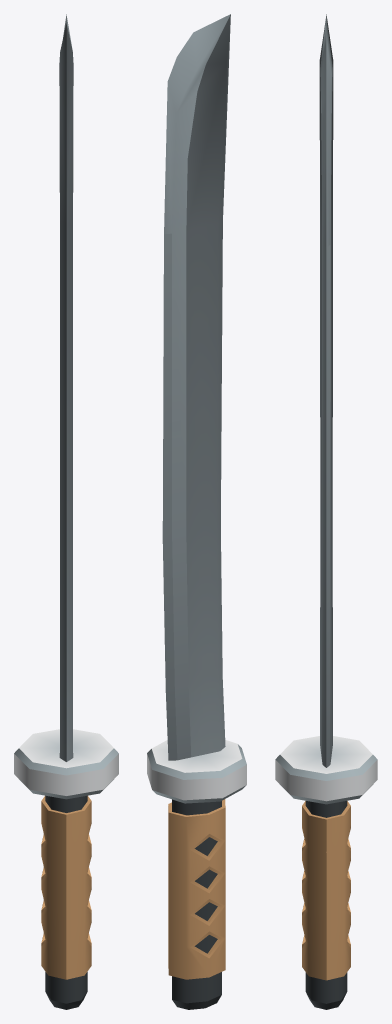
File: SM_Katana.fbx
3 views of the same model, side by side, from view 1: azimuth 90°, elevation 25°; view 2: azimuth 210°, elevation 25°; view 3: azimuth 270°, elevation 25° (orthographic). The views are drawn at different scales.
Visible parts, largest first — view 1: SM_Katana; view 2: SM_Katana; view 3: SM_Katana.
Part boxes in pixels (x1,y1,x2,y2): SM_Katana: (14,14,118,1009); SM_Katana: (147,14,246,1009); SM_Katana: (275,14,377,1009).
Size of the model in its own units: 0.1723 by 1.8 by 0.1723.
